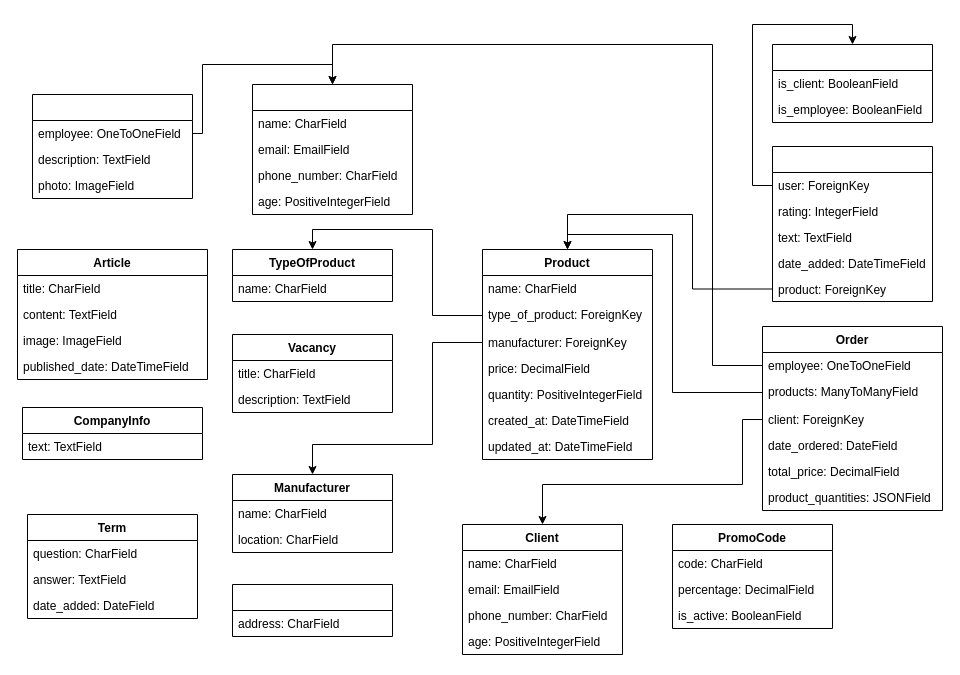
This 960x675 diagram has some shape labels left out. The shapes that lost their labels are listed below. From the top down, each one's box as (x1, y1, x2, y2) in pixels, then its label:
(772, 44, 932, 122): User
(32, 94, 192, 198): Contact
(252, 84, 412, 214): Employee
(772, 146, 932, 302): Review
(232, 584, 392, 636): PickUpPoint
